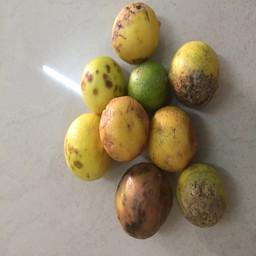Bad_lime: (118, 169, 175, 238), (100, 2, 165, 61), (178, 159, 232, 227), (152, 109, 200, 176), (168, 46, 217, 106), (103, 98, 147, 163), (80, 58, 124, 111), (69, 122, 95, 184)
